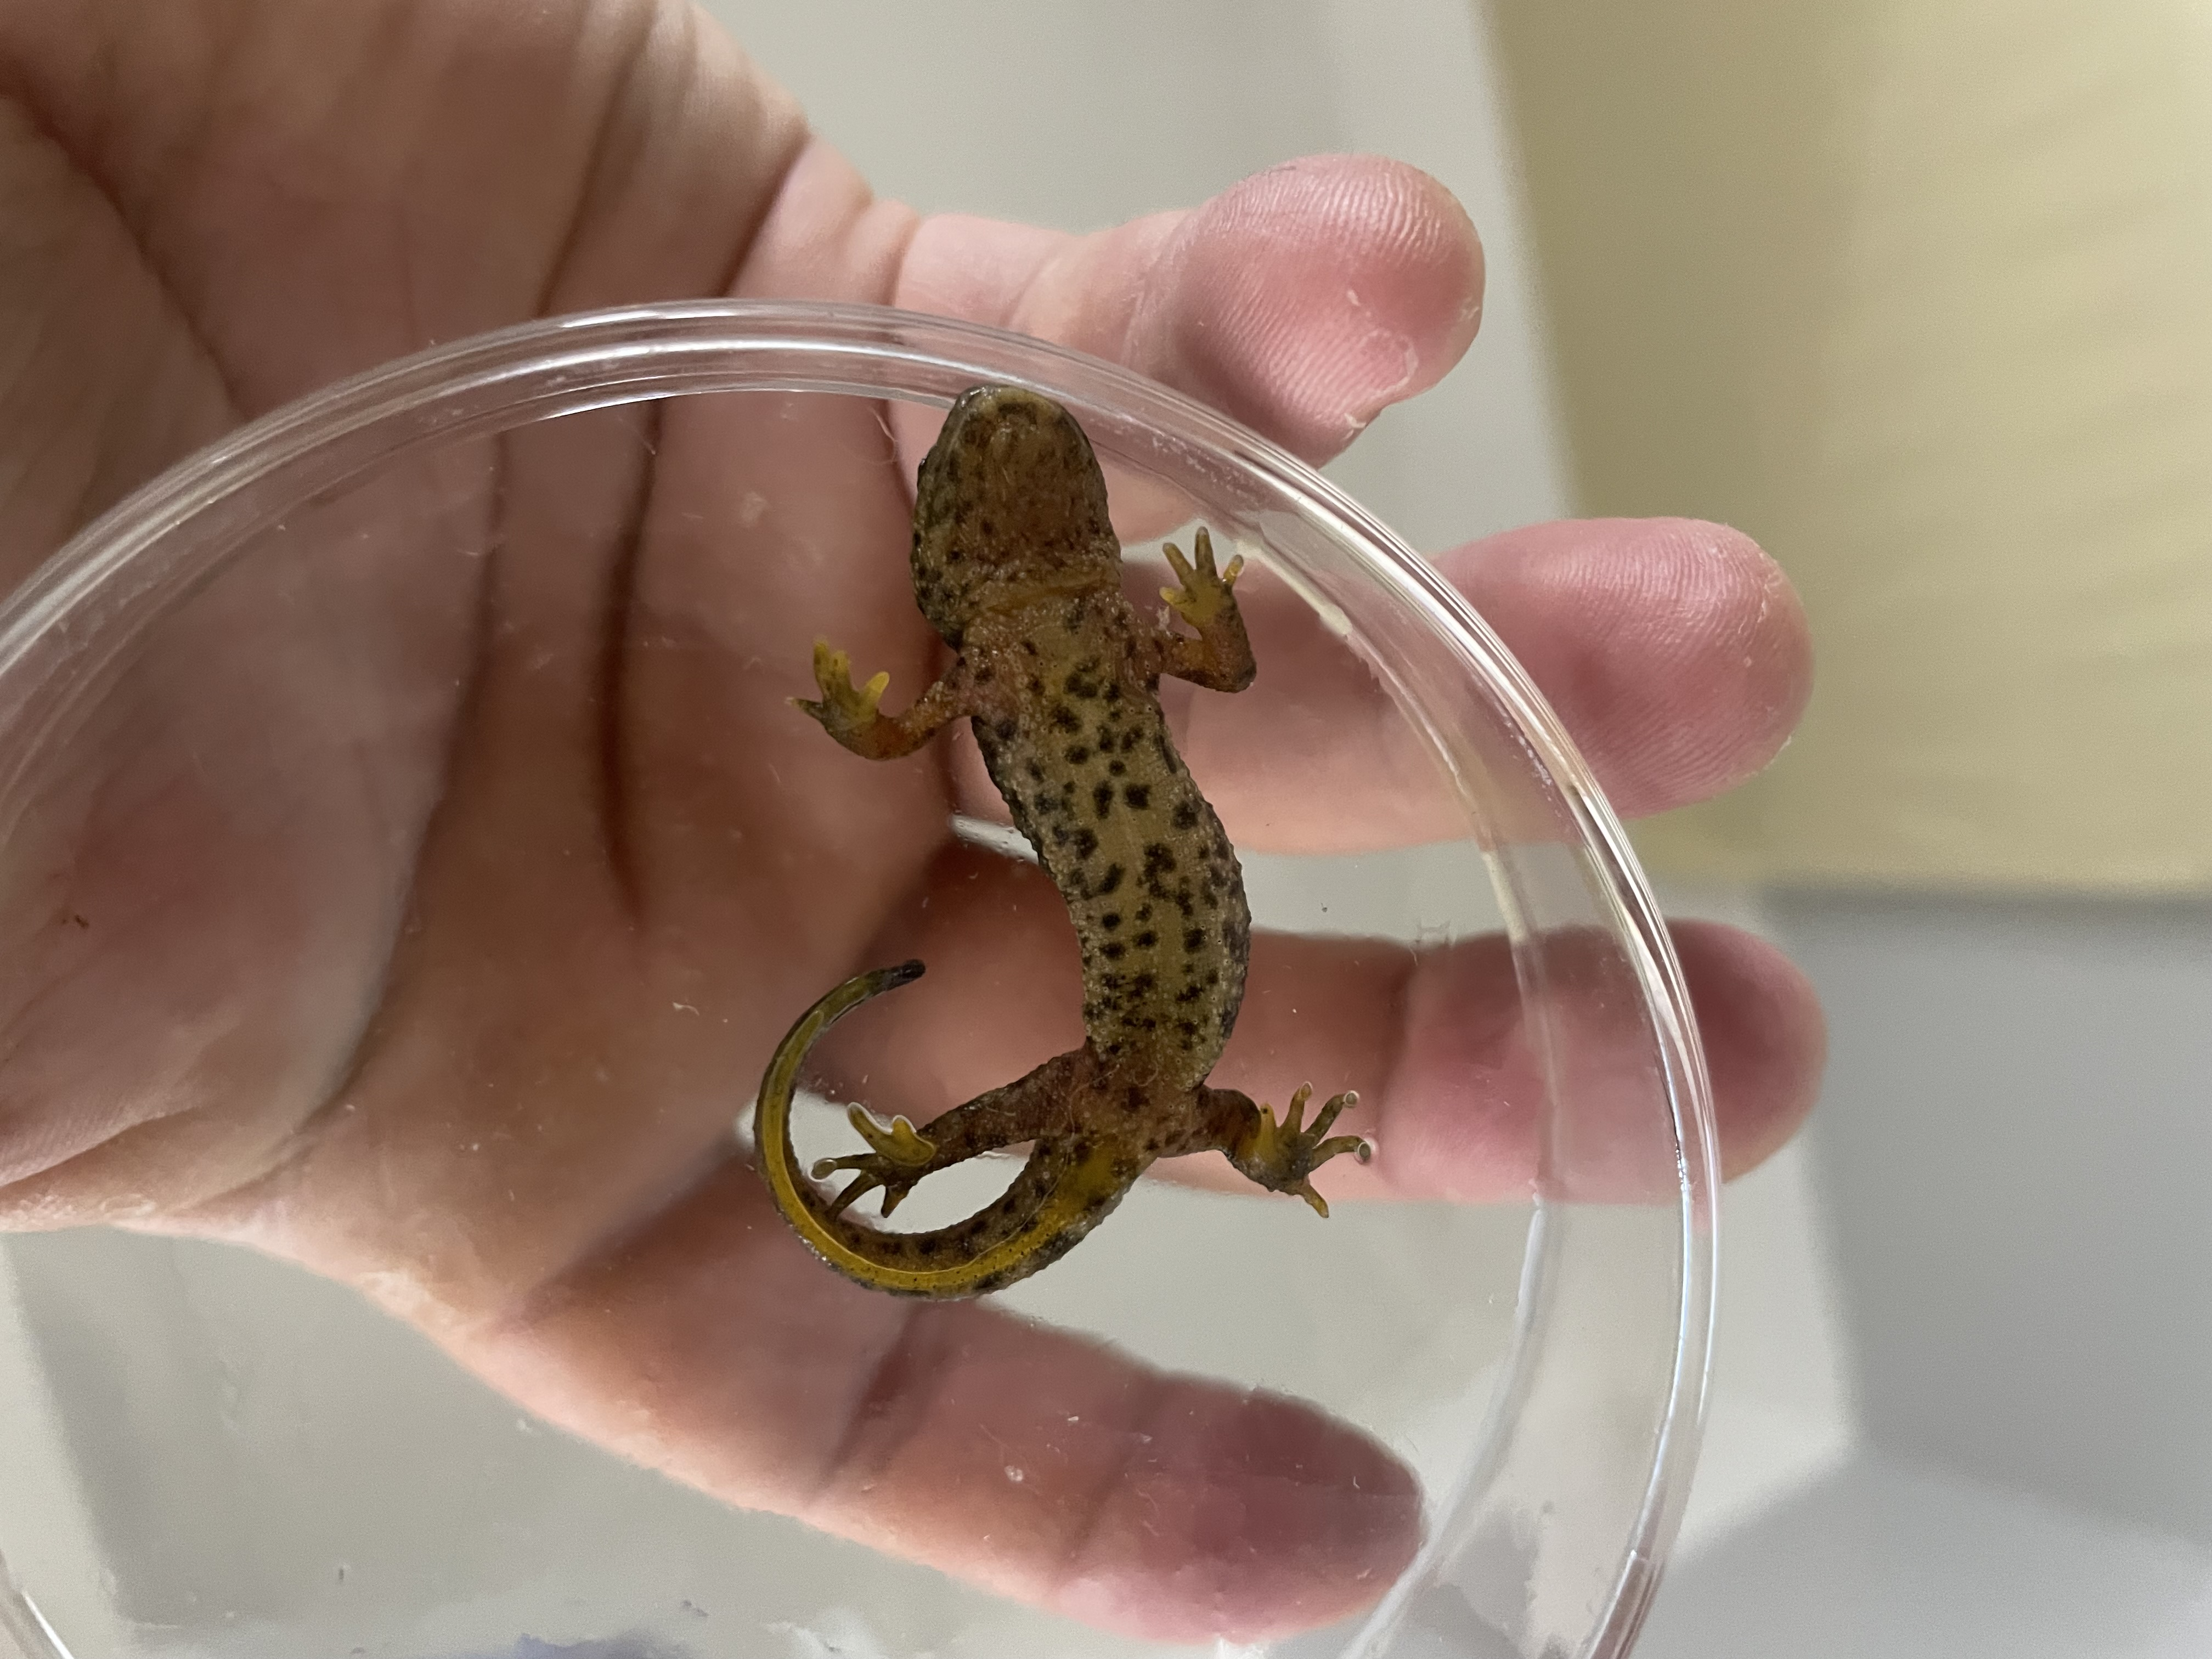newt_ribbed: (970, 674, 1251, 1089)
